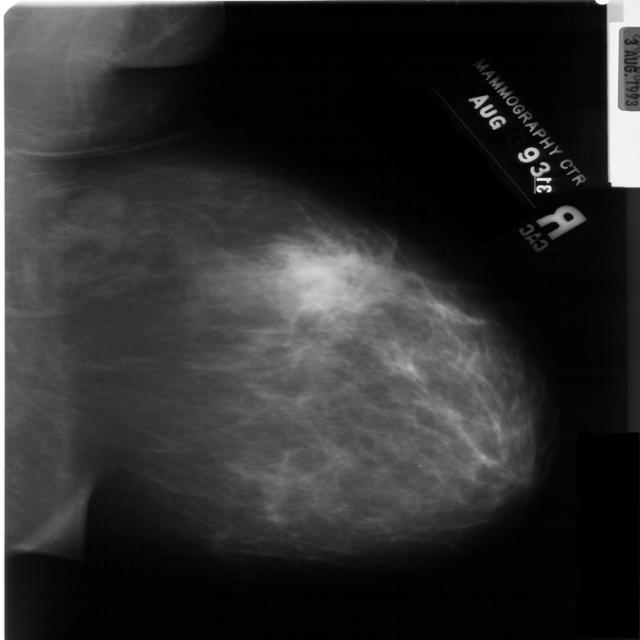tumour: (63, 186, 126, 228)
